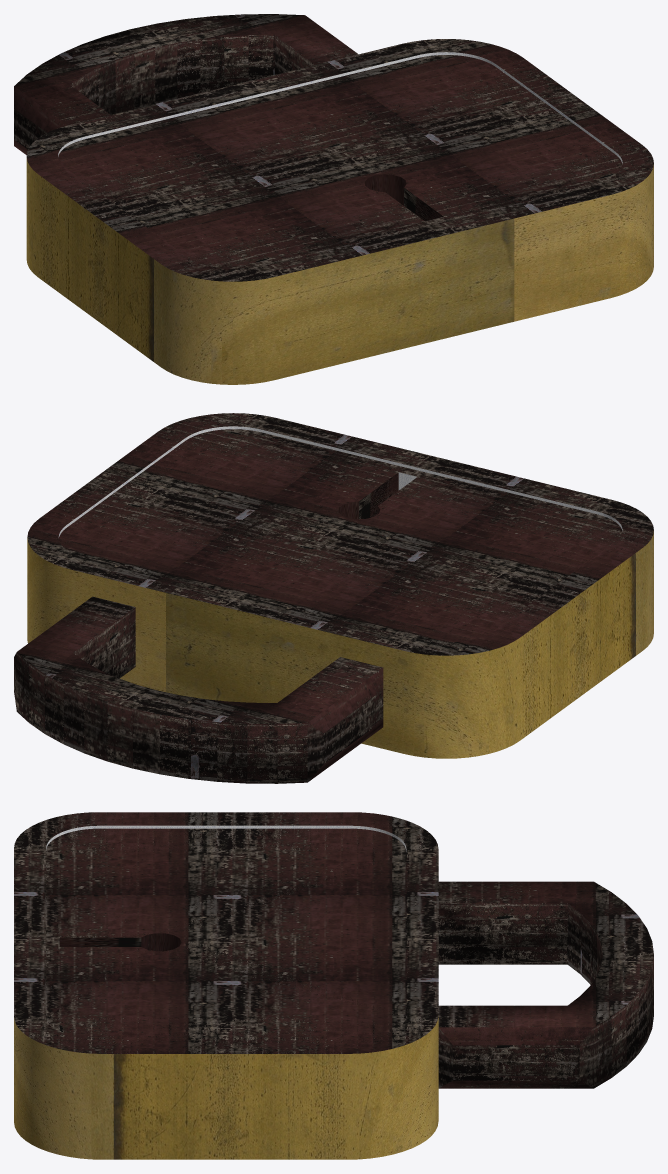
Rendered from Lock.dae.
3 renders of one model, top to bottom at view 1: azimuth 30°, elevation 25°; view 2: azimuth 150°, elevation 25°; view 3: azimuth 270°, elevation 25°, orthographic. The views are drawn at different scales.
Parts seen in each view (by area): view 1: SketchUp (×6); view 2: SketchUp (×6); view 3: SketchUp (×6).
Part boxes in pixels (x1,y1,x2,y2): SketchUp (×6): [14, 14, 653, 384]; SketchUp (×6): [14, 413, 653, 783]; SketchUp (×6): [14, 812, 653, 1159].
Bounding box in the file's own units: 135 × 151 × 27.5.
